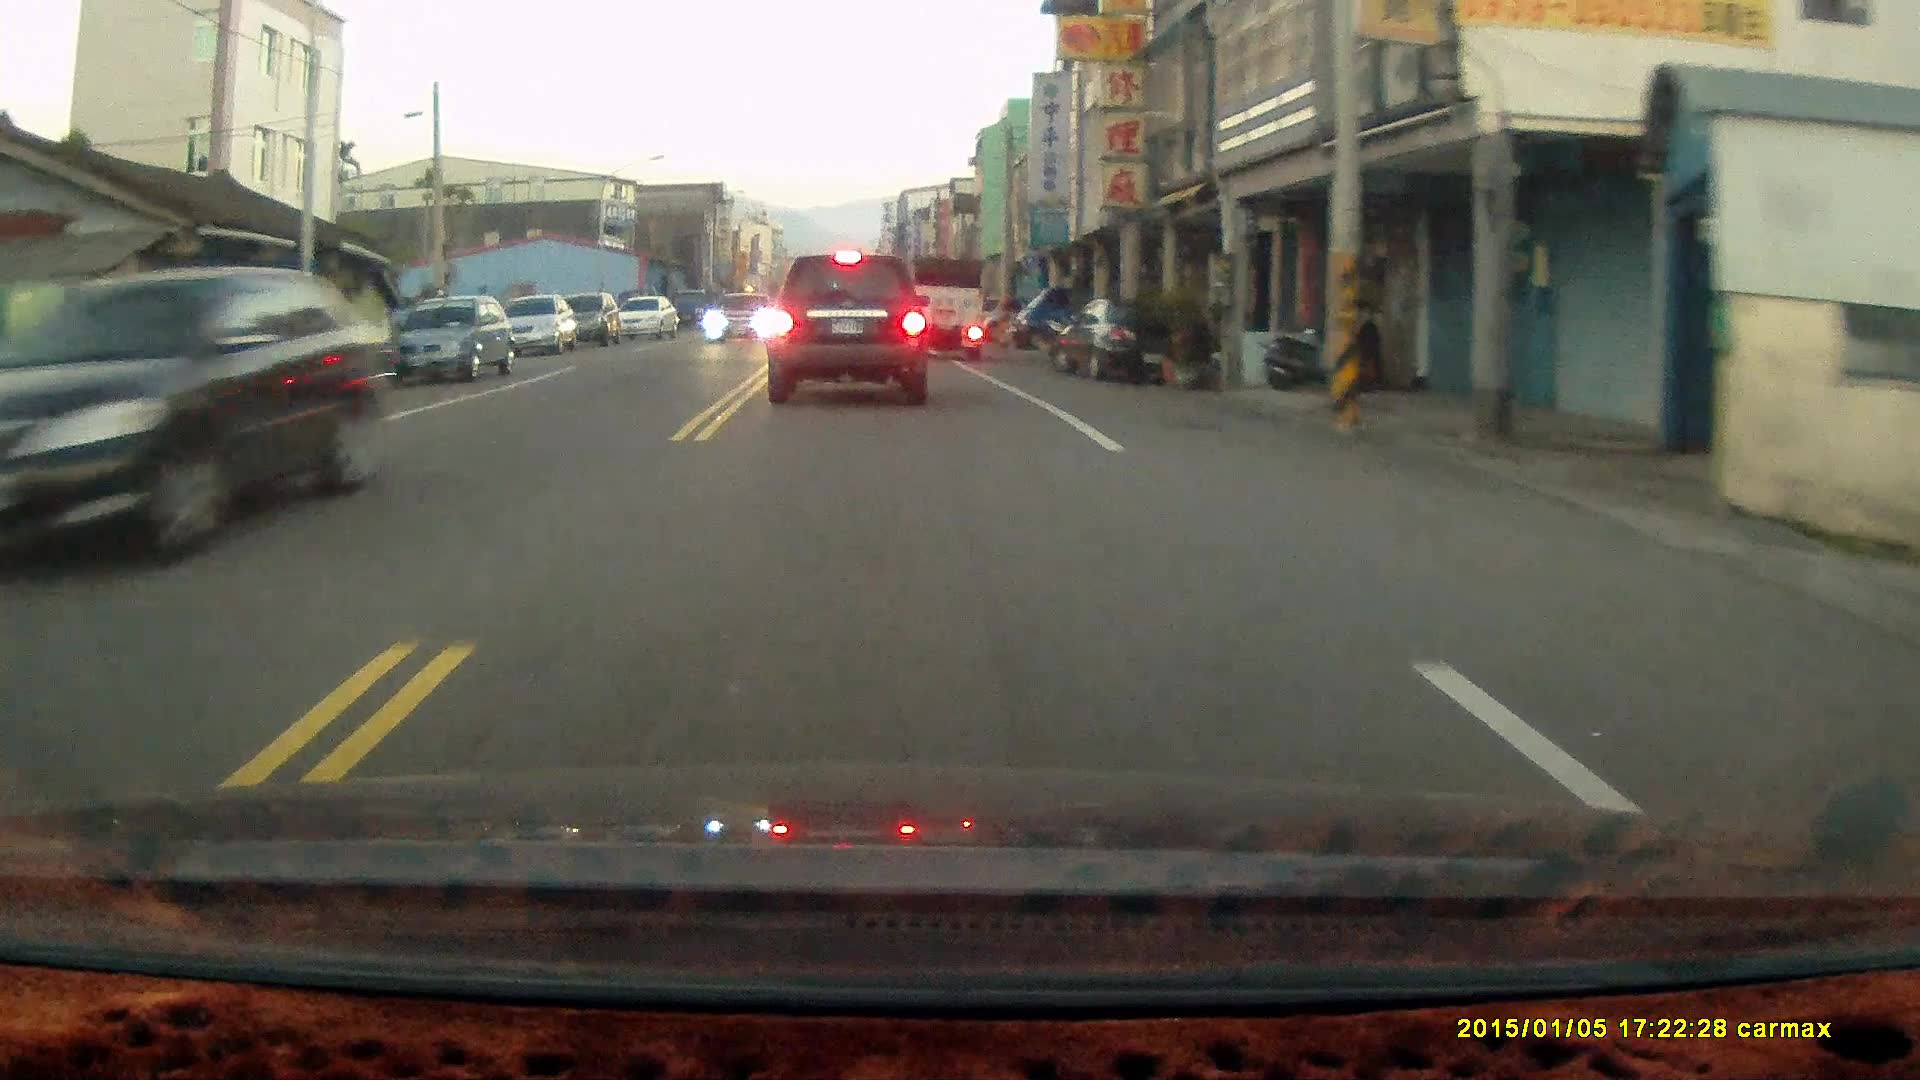vehicle: (1, 262, 398, 593), (766, 251, 930, 406), (1055, 295, 1200, 381), (385, 294, 516, 385), (899, 256, 992, 367), (1013, 280, 1127, 353), (501, 294, 576, 356), (704, 291, 778, 345), (550, 291, 622, 345), (615, 297, 683, 342)
